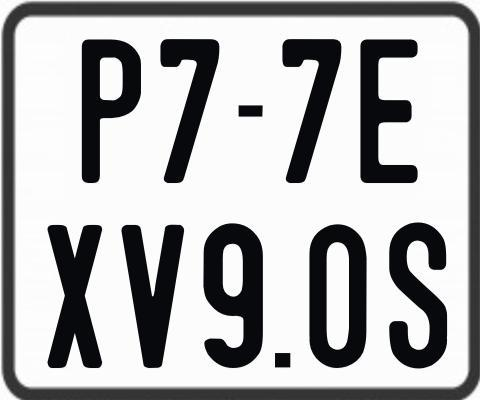0: (308, 223, 368, 372)
7: (279, 36, 341, 184), (159, 37, 220, 183)
9: (202, 223, 265, 371)
E: (358, 38, 416, 188)
P: (79, 38, 144, 188)
S: (387, 219, 446, 369)
V: (120, 223, 184, 368)
X: (46, 224, 105, 372)
